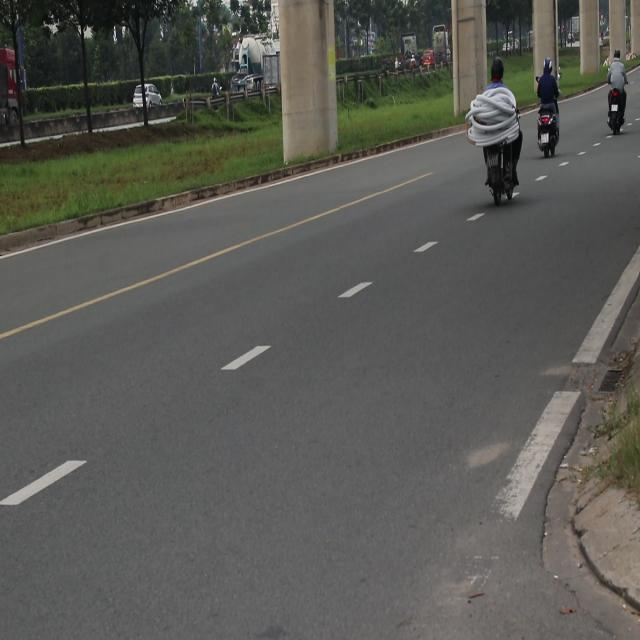car: (134, 84, 164, 107)
motorbike: (479, 132, 521, 214), (600, 88, 632, 147), (537, 108, 560, 160), (202, 65, 224, 113)
truck: (261, 49, 281, 94)
